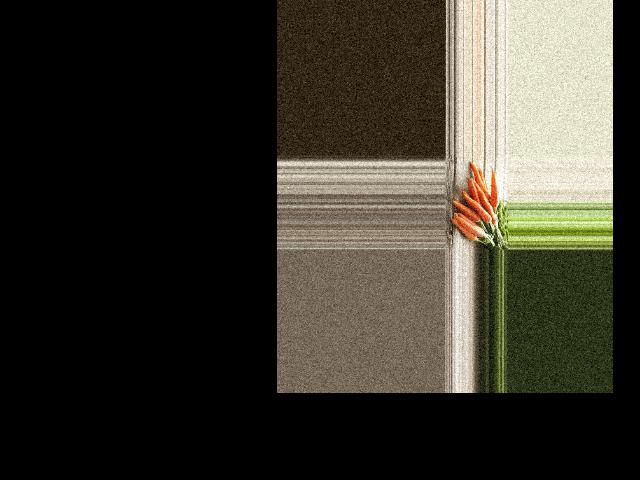carrot: (489, 169, 502, 206)
